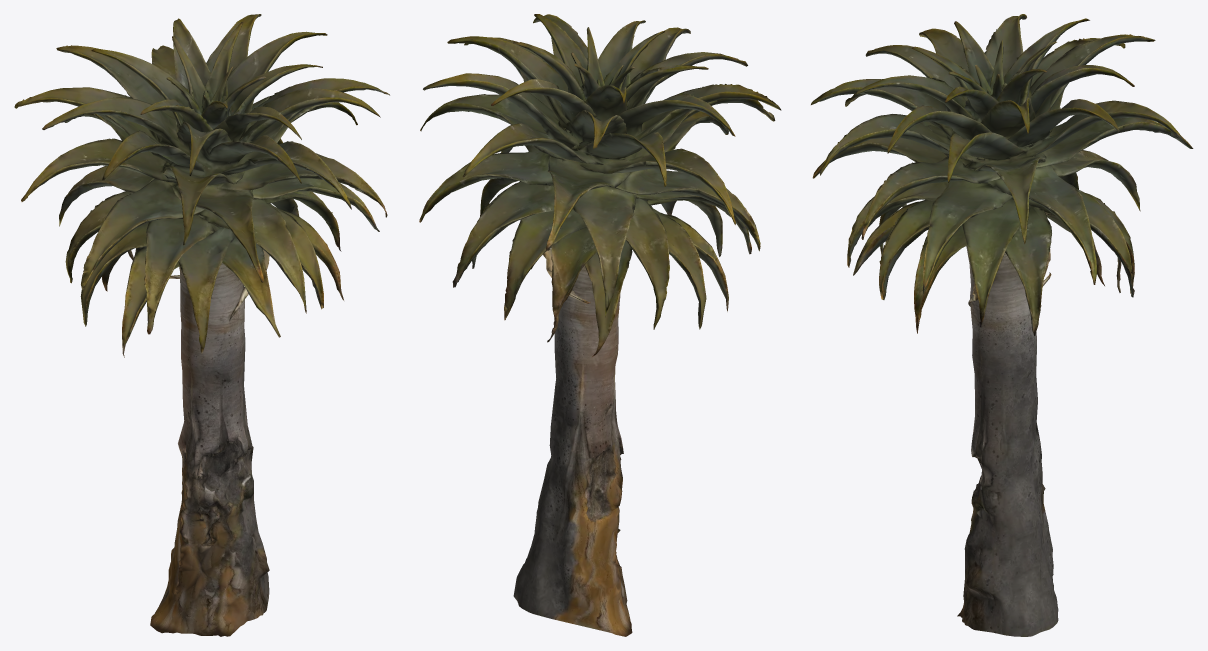
Rendered from quiver-tree-02.glb.
The picture shows the model from 3 angles, left to right: view 1: azimuth 30°, elevation 25°; view 2: azimuth 150°, elevation 25°; view 3: azimuth 270°, elevation 25°; orthographic projection.
Parts seen in each view (by area): view 1: quiver_tree_02; view 2: quiver_tree_02; view 3: quiver_tree_02.
Part boxes in pixels (x1,y1,x2,y2): quiver_tree_02: (14, 14, 389, 636); quiver_tree_02: (419, 14, 781, 636); quiver_tree_02: (811, 14, 1193, 636).
Bounding box in the file's own units: 0.8716 × 1.47 × 0.8806.
Materials: 1 (1 with a texture image).
